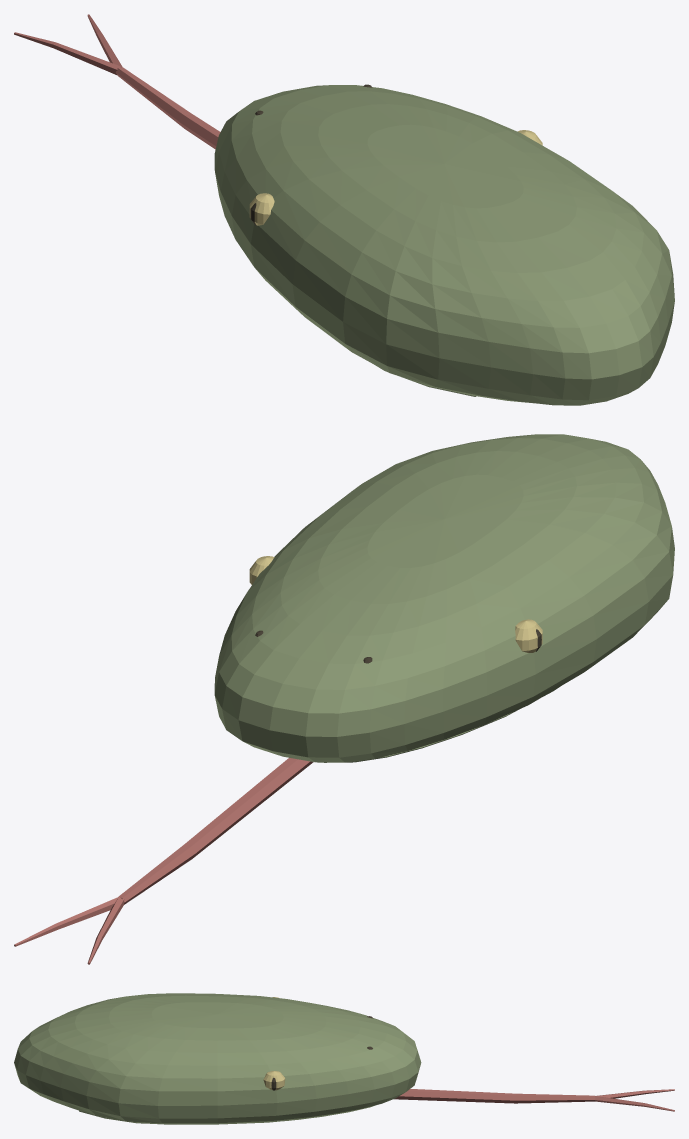
Rendered from serpent_head_original_01.glb.
3 views of the same model, one above another, from view 1: azimuth 30°, elevation 25°; view 2: azimuth 150°, elevation 25°; view 3: azimuth 270°, elevation 25° (orthographic). The views are drawn at different scales.
Parts seen in each view (by area): view 1: S0_Head, S0_TongueBase, S0_TongueL; view 2: S0_Head, S0_TongueBase, S0_TongueR; view 3: S0_Head, S0_TongueBase, S0_MouthR, S0_TongueR, S0_TongueL, S0_EyeR.
Boxes of the visible parts, x1,y1,x2,y2 form: S0_Head: (214, 85, 674, 405); S0_TongueBase: (115, 67, 220, 149); S0_TongueL: (14, 32, 120, 75); S0_Head: (214, 434, 674, 762); S0_TongueBase: (118, 758, 313, 904); S0_TongueR: (14, 897, 119, 946); S0_Head: (14, 993, 421, 1124); S0_TongueBase: (394, 1089, 595, 1103); S0_MouthR: (79, 1105, 375, 1124); S0_TongueR: (595, 1096, 674, 1111); S0_TongueL: (595, 1089, 674, 1098); S0_EyeR: (263, 1071, 285, 1090).
Size of the model in its own units: 0.2068 by 0.098 by 0.6653.
